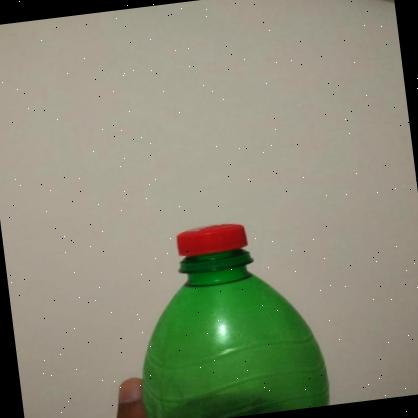cap: (172, 221, 252, 271)
